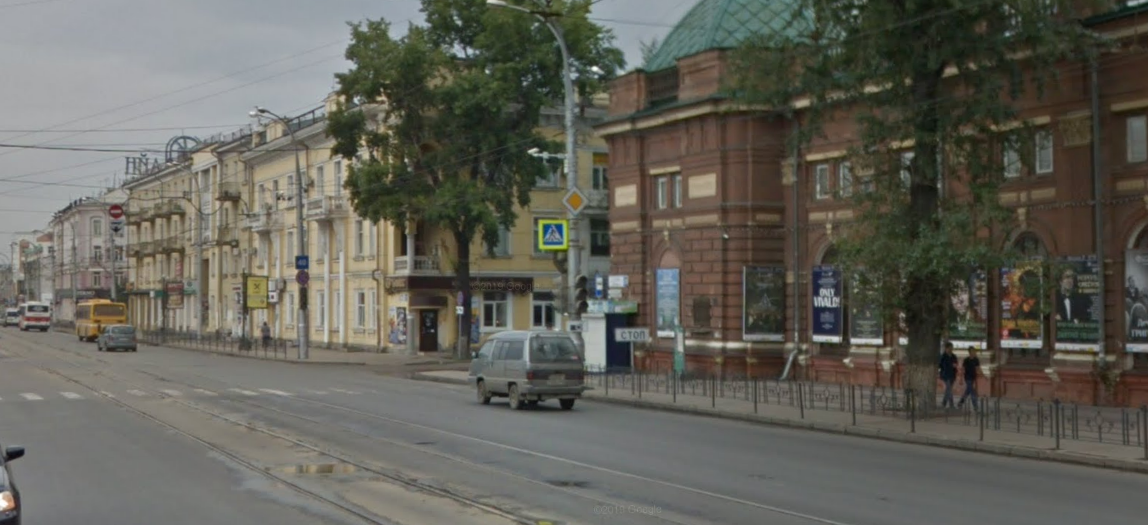sign: (537, 216, 569, 251), (560, 185, 590, 217), (613, 325, 652, 343), (593, 272, 605, 299), (294, 254, 310, 271), (108, 220, 124, 236), (295, 270, 310, 286), (108, 204, 123, 219)
